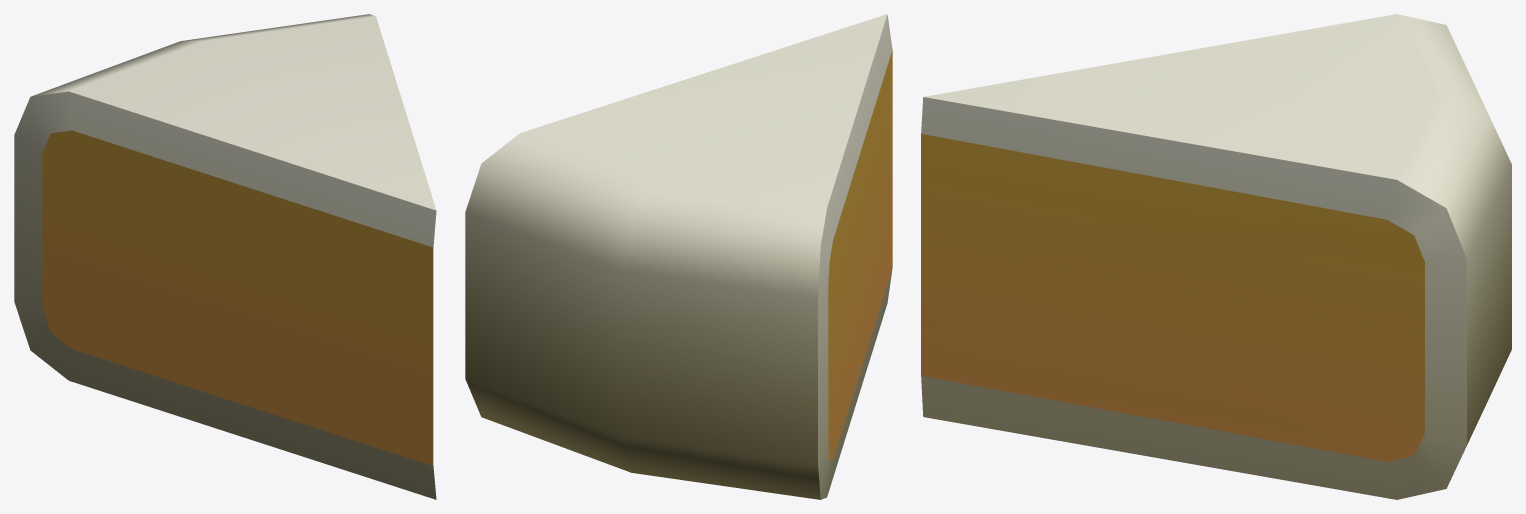
File: White_Cheese_Slice_01.glb
3 views of the same model, side by side, from view 1: azimuth 30°, elevation 25°; view 2: azimuth 150°, elevation 25°; view 3: azimuth 270°, elevation 25° (orthographic). The views are drawn at different scales.
Visible parts, largest first — view 1: White_Cheese_Slice_01; view 2: White_Cheese_Slice_01; view 3: White_Cheese_Slice_01.
Boxes of the visible parts, x1,y1,x2,y2 form: White_Cheese_Slice_01: (14,14,436,499); White_Cheese_Slice_01: (465,14,892,499); White_Cheese_Slice_01: (921,14,1511,499).
Bounding box in the file's own units: 0.1757 × 0.1377 × 0.2303.
Materials: 1 (1 with a texture image).
